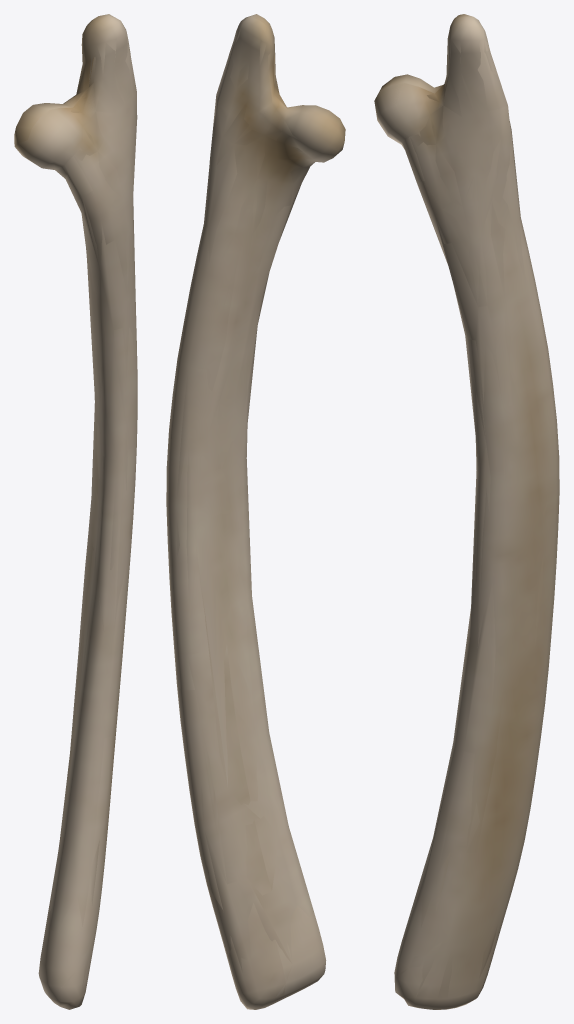
File: Rib L01.fbx
The picture shows the model from 3 angles, left to right: view 1: azimuth 30°, elevation 25°; view 2: azimuth 150°, elevation 25°; view 3: azimuth 330°, elevation 25°; orthographic projection. The views are drawn at different scales.
Visible parts, largest first — view 1: Rib L01 low, Rib L01; view 2: Rib L01, Rib L01 low; view 3: Rib L01, Rib L01 low.
Part boxes in pixels (x1=…): Rib L01 low: x1=14, y1=15, x2=136, y2=1008; Rib L01: x1=14, y1=14, x2=137, y2=1009; Rib L01: x1=166, y1=14, x2=345, y2=1009; Rib L01 low: x1=167, y1=16, x2=345, y2=1008; Rib L01: x1=374, y1=14, x2=559, y2=1009; Rib L01 low: x1=376, y1=17, x2=549, y2=1005.
Size of the model in its own units: 4.76 by 31 by 3.4.
1 material, 1 textured.
